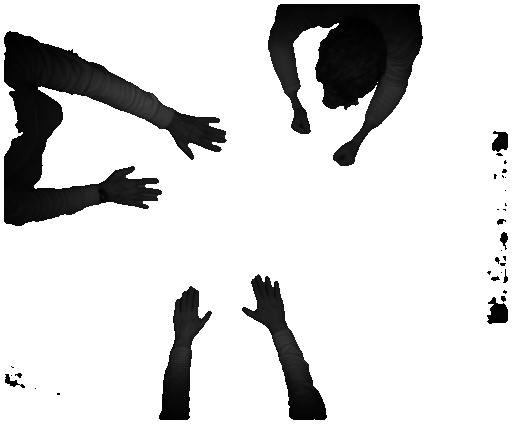fist: (328, 143, 361, 167), (288, 112, 311, 135)
hand: (106, 166, 166, 215), (168, 281, 215, 341), (240, 272, 287, 327), (170, 116, 230, 159)
